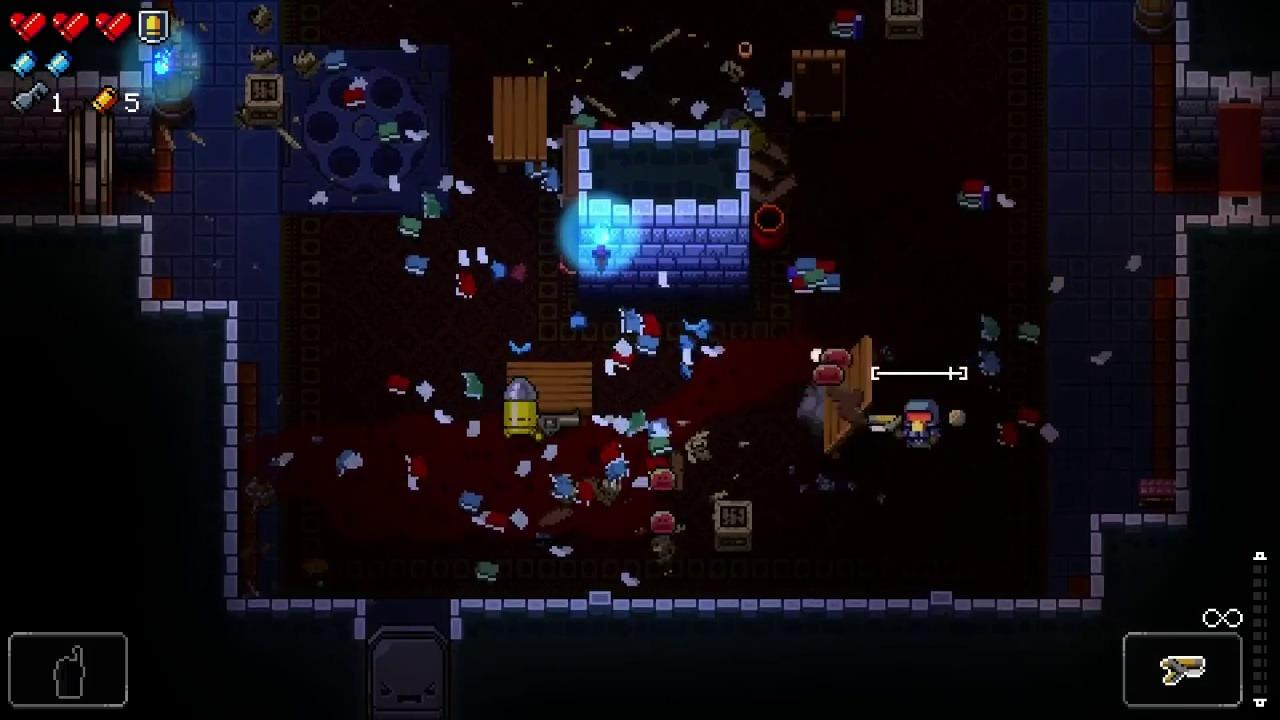blobulin_s: (813, 366, 847, 386), (820, 348, 852, 368), (650, 469, 677, 492), (650, 510, 675, 533)
blocked_door: (1219, 85, 1263, 217)
bullet_kin: (502, 377, 541, 438)
locked_door: (366, 626, 449, 719), (70, 106, 114, 216)
player: (901, 400, 942, 449)
table: (492, 75, 546, 172), (506, 362, 594, 421), (791, 49, 850, 123)
teleporter: (280, 41, 446, 216)
